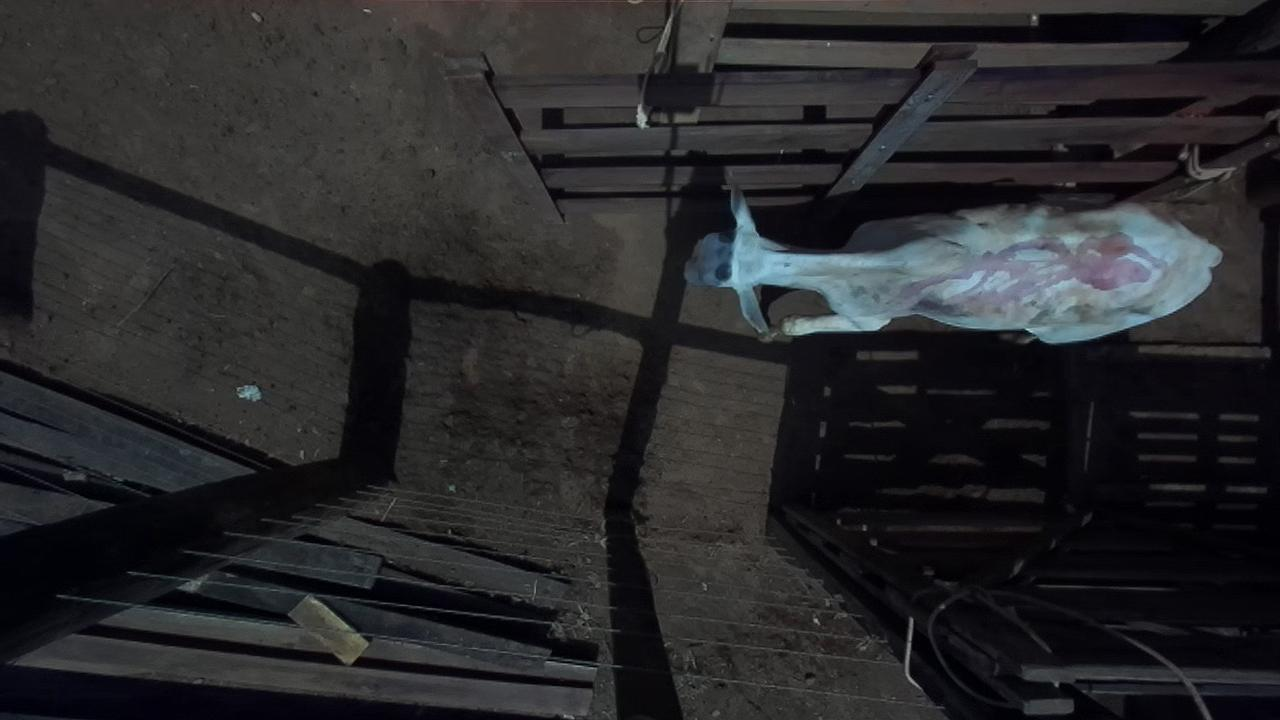cattle: (682, 179, 1223, 345)
